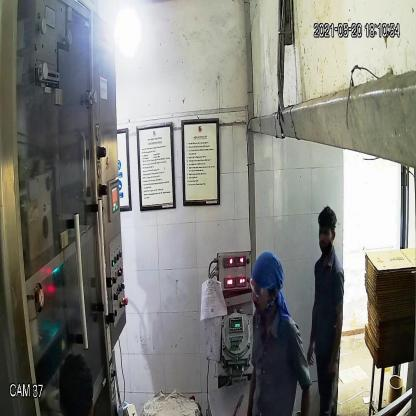goggles: (247, 275, 276, 297)
no_goggles: (316, 225, 334, 241)
